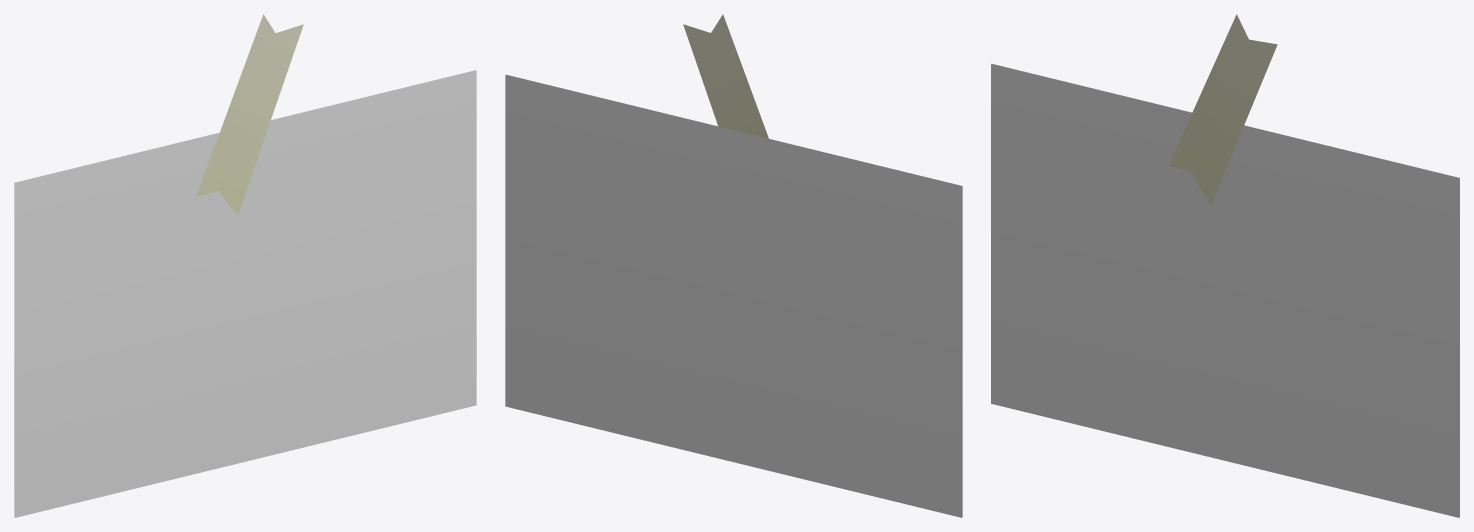
Rendered from CR_Memo_002.FBX.
3 renders of one model, left to right at view 1: azimuth 30°, elevation 25°; view 2: azimuth 150°, elevation 25°; view 3: azimuth 330°, elevation 25°, orthographic. The views are drawn at different scales.
Parts seen in each view (by area): view 1: CR_Memo_002; view 2: CR_Memo_002; view 3: CR_Memo_002.
Boxes of the visible parts, x1=… form: CR_Memo_002: x1=14, y1=14, x2=476, y2=517; CR_Memo_002: x1=505, y1=14, x2=962, y2=517; CR_Memo_002: x1=991, y1=14, x2=1459, y2=517.
Bounding box in the file's own units: 6.65 × 6.15 × 0.0943.
1 material, 1 textured.
